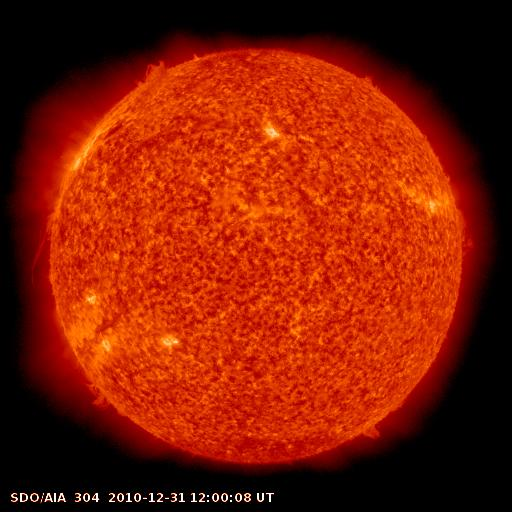prominence: (17, 198, 64, 289), (72, 367, 125, 421), (129, 51, 182, 100), (341, 412, 396, 456), (449, 207, 488, 260), (347, 58, 390, 106)
